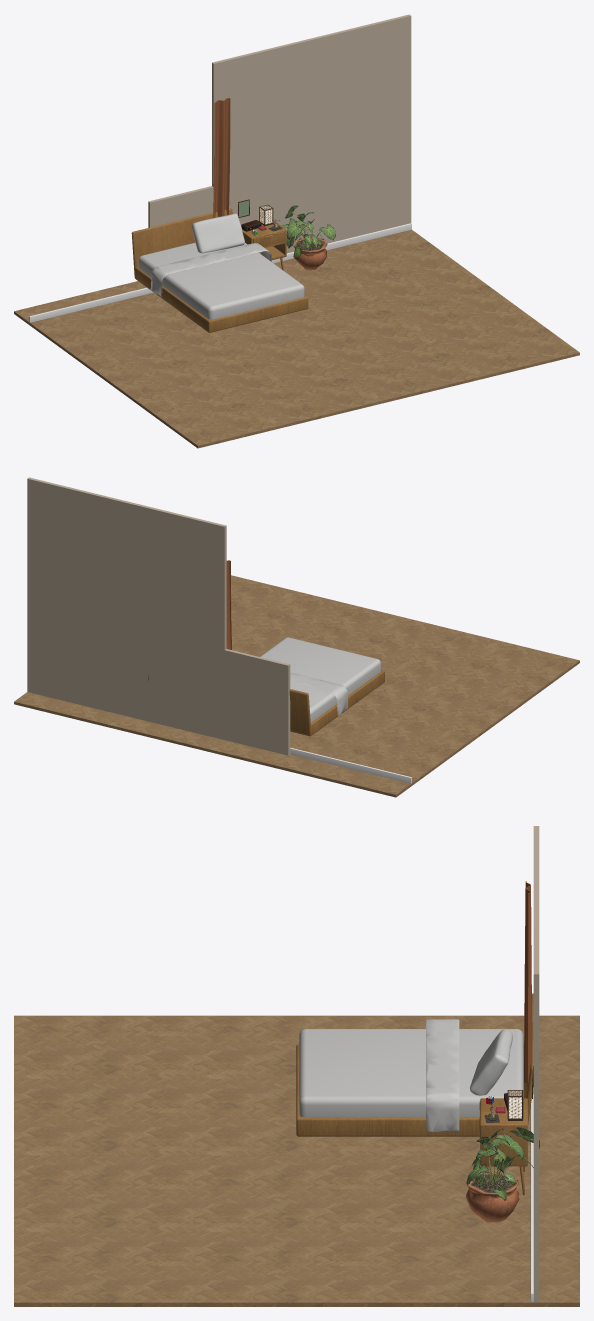
Rendered from donor-b.glb.
The picture shows the model from 3 angles, top to bottom: view 1: azimuth 30°, elevation 25°; view 2: azimuth 150°, elevation 25°; view 3: azimuth 270°, elevation 25°; orthographic projection. The views are drawn at different scales.
Visible parts, largest first — view 1: Floor, WallRight, WallFar, Mattress, BedFrame, Curtain1, Headboard, WallBelow, potted_plant_02, Skirting, Pillow1, SheetFold (+1 smaller); view 2: Floor, WallRight, WallFar, WallBelow, Mattress, BedFrame, Skirting, Headboard, SheetFold, Curtain1; view 3: Floor, Mattress, SheetFold, potted_plant_02, BedFrame, WallFar, Nightstand, Pillow1, Curtain1, Skirting, WallRight.
Part boxes in pixels (x1,y1,x2,y2): Floor: (14,229,579,448); WallRight: (212,31,340,253); WallFar: (339,14,411,240); Mattress: (138,242,304,319); BedFrame: (134,266,308,332); Curtain1: (213,98,230,218); Headboard: (131,208,232,276); WallBelow: (148,186,213,227); potted_plant_02: (282,205,335,270); Skirting: (29,223,411,322); Pillow1: (191,213,244,253); SheetFold: (150,243,271,297); Floor: (14,575,579,797); WallRight: (97,494,226,739); WallFar: (27,477,98,708); WallBelow: (224,649,290,755); Mattress: (260,637,380,722); BedFrame: (290,670,384,736); Skirting: (290,747,411,783); Headboard: (289,689,311,734); SheetFold: (290,672,347,715); Curtain1: (226,560,231,649); Floor: (14,1015,579,1306); Mattress: (299,1029,523,1117); SheetFold: (426,1019,459,1132); potted_plant_02: (465,1127,539,1222); BedFrame: (296,1044,523,1136); WallFar: (533,921,539,1302); Nightstand: (479,1098,527,1195); Pillow1: (470,1029,512,1095); Curtain1: (524,881,532,1086); Skirting: (530,1087,533,1302); WallRight: (533,826,539,921).
Size of the model in its own units: 60 by 32.4 by 50.
48 materials, 11 textured.
